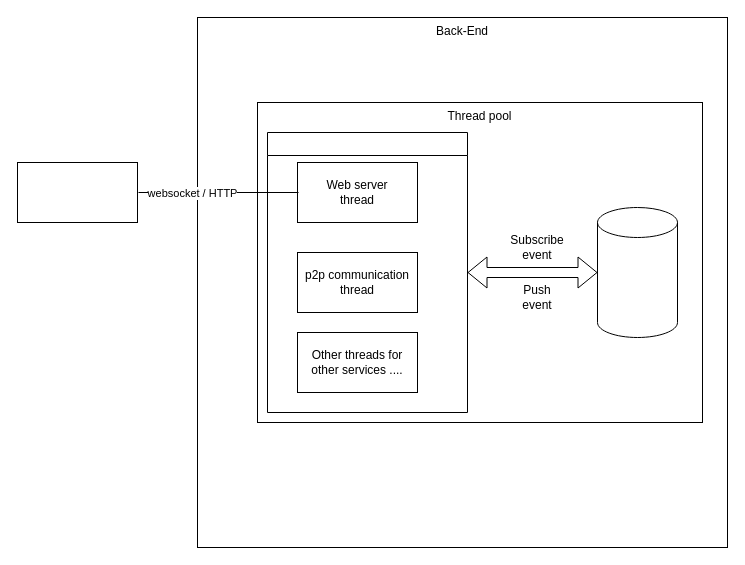
Some shapes in this 745 by 565 pixel diagram are drawn without their labels. Each missing label, with the centre of its shape:
event-loop Thread: [637,272]
Front-End: [77,192]
Services Threads: [367,272]
